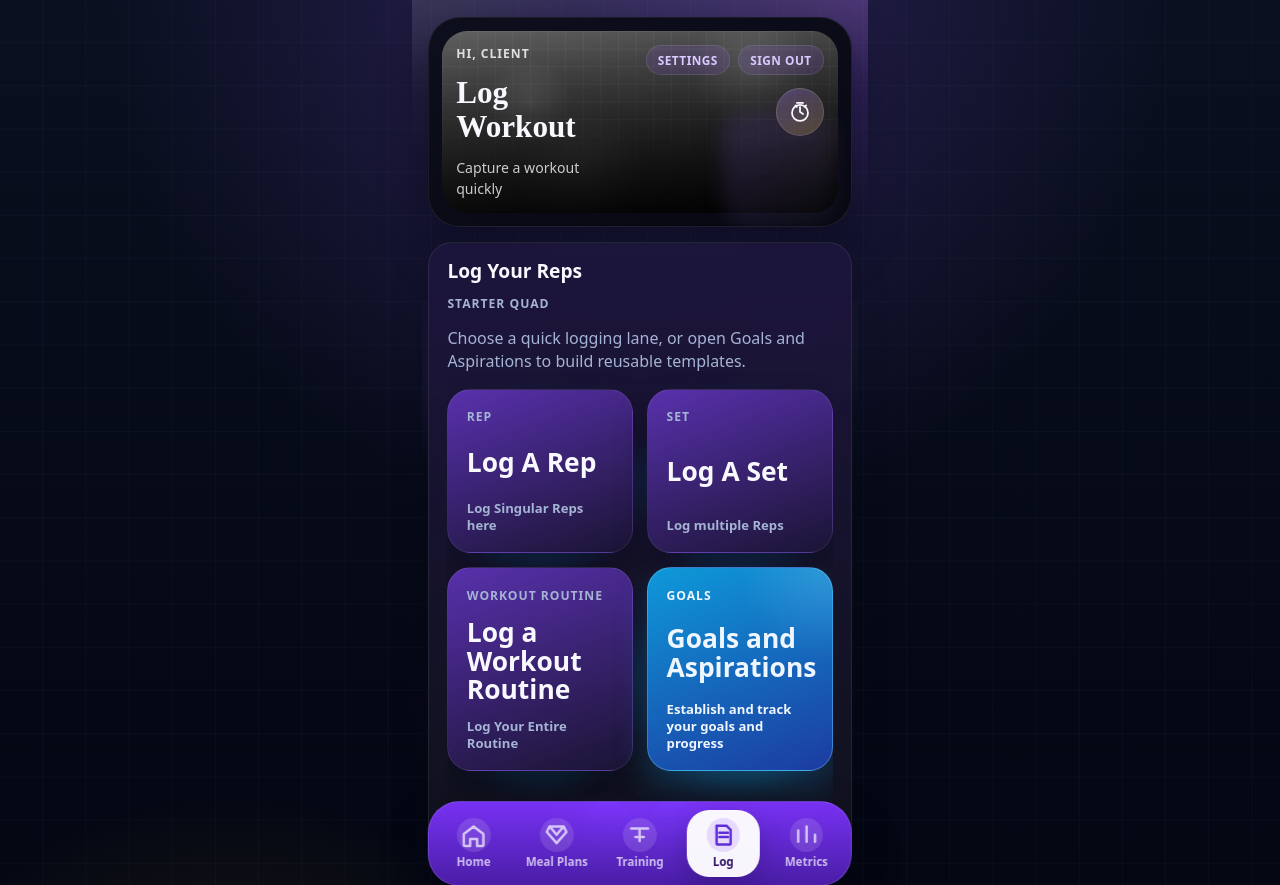
Test case: AddLogPage mobile experience › uses the top Rep selector with history autosuggest and omits hidden rep/set fields from the POST payload
Click the button named "Open Log A Rep form" at (540, 471), box [447,389,633,553]
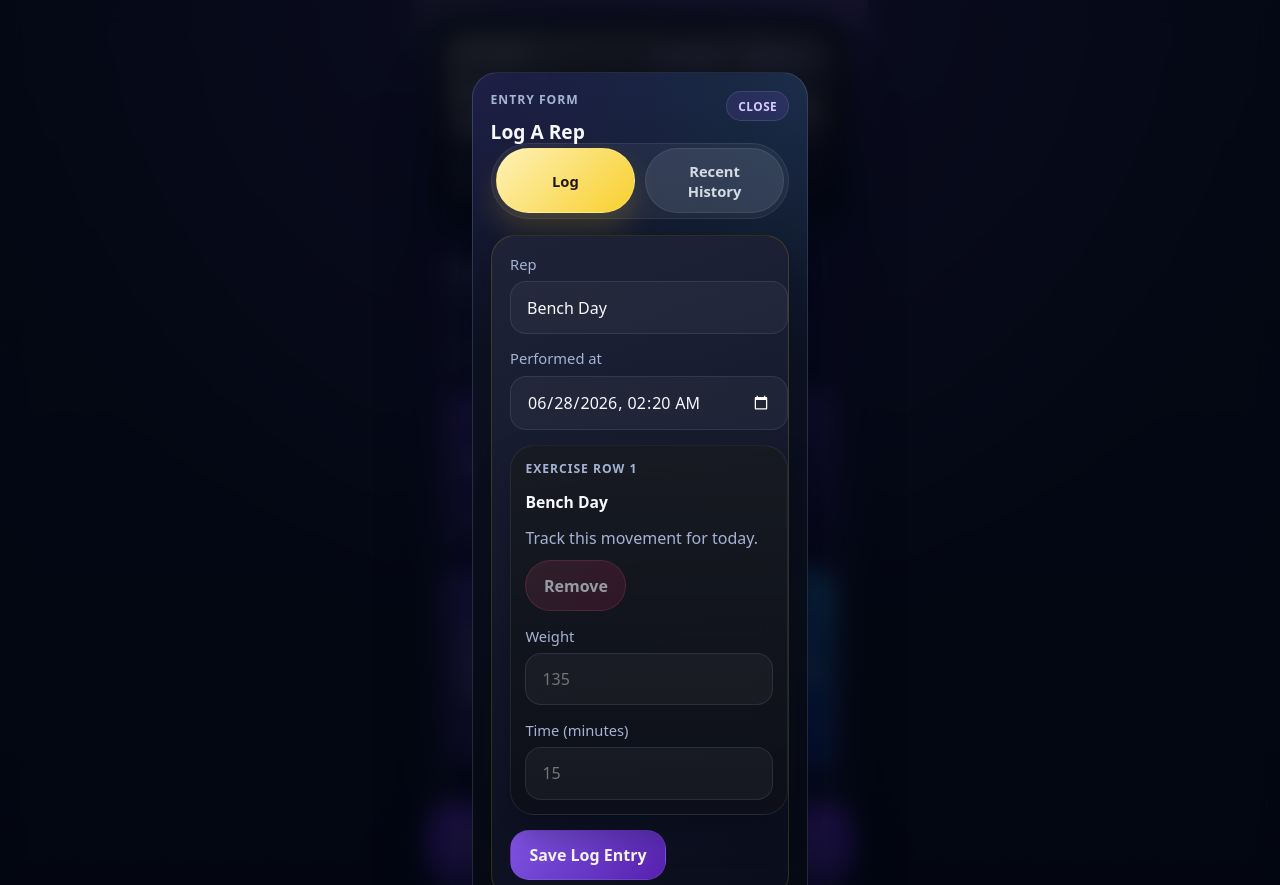
Check: the field labelled "Rep" holds "Bench Day"
Check: the number field labelled "Weight" is shown, box [525,653,773,706]
Check: the number field labelled "Time (minutes)" is shown, box [525,747,773,800]
Replace the text in the field labelled "Rep" with "Bench Press" at (649, 308), box [510,281,788,334]
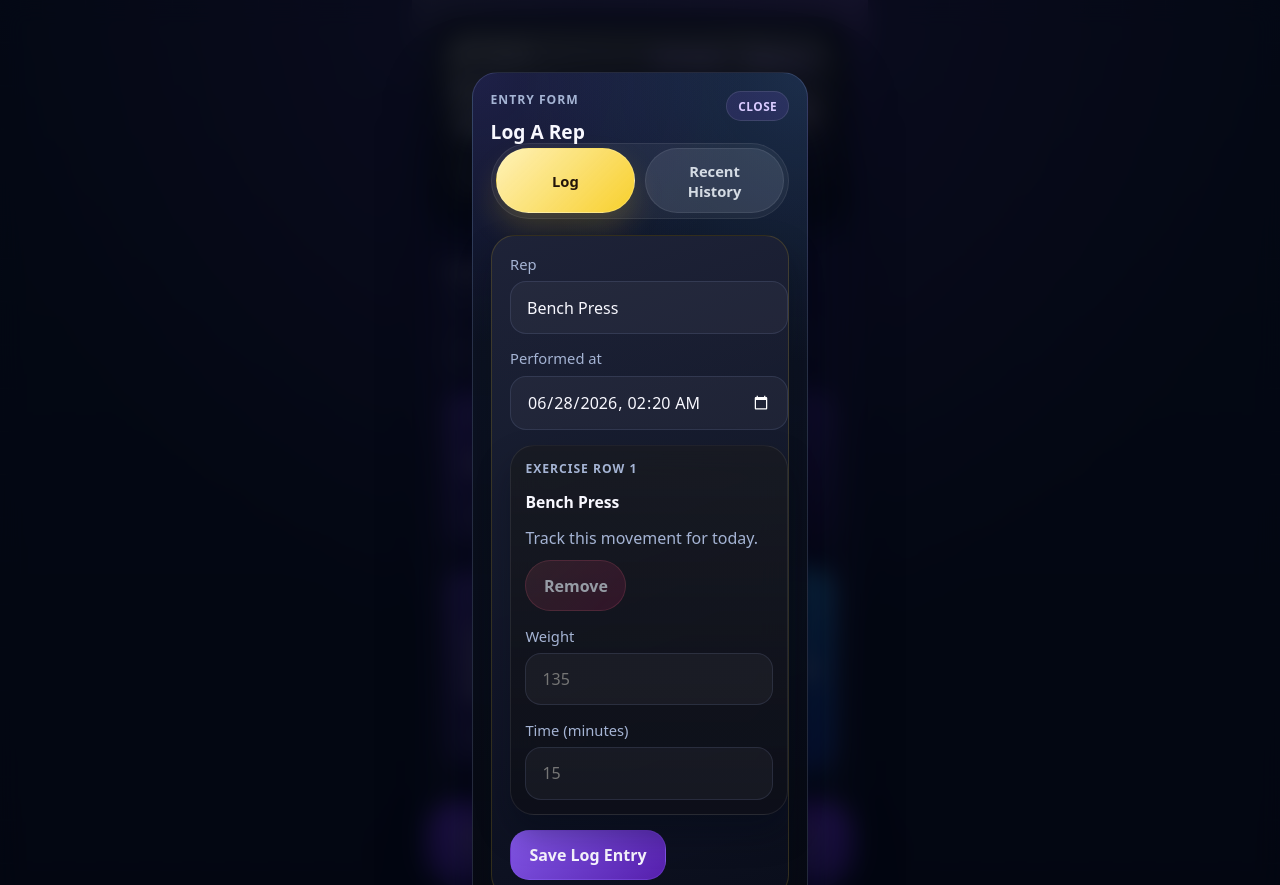
Type "135.5" into the number field labelled "Weight" at (649, 679), box [525,653,773,706]
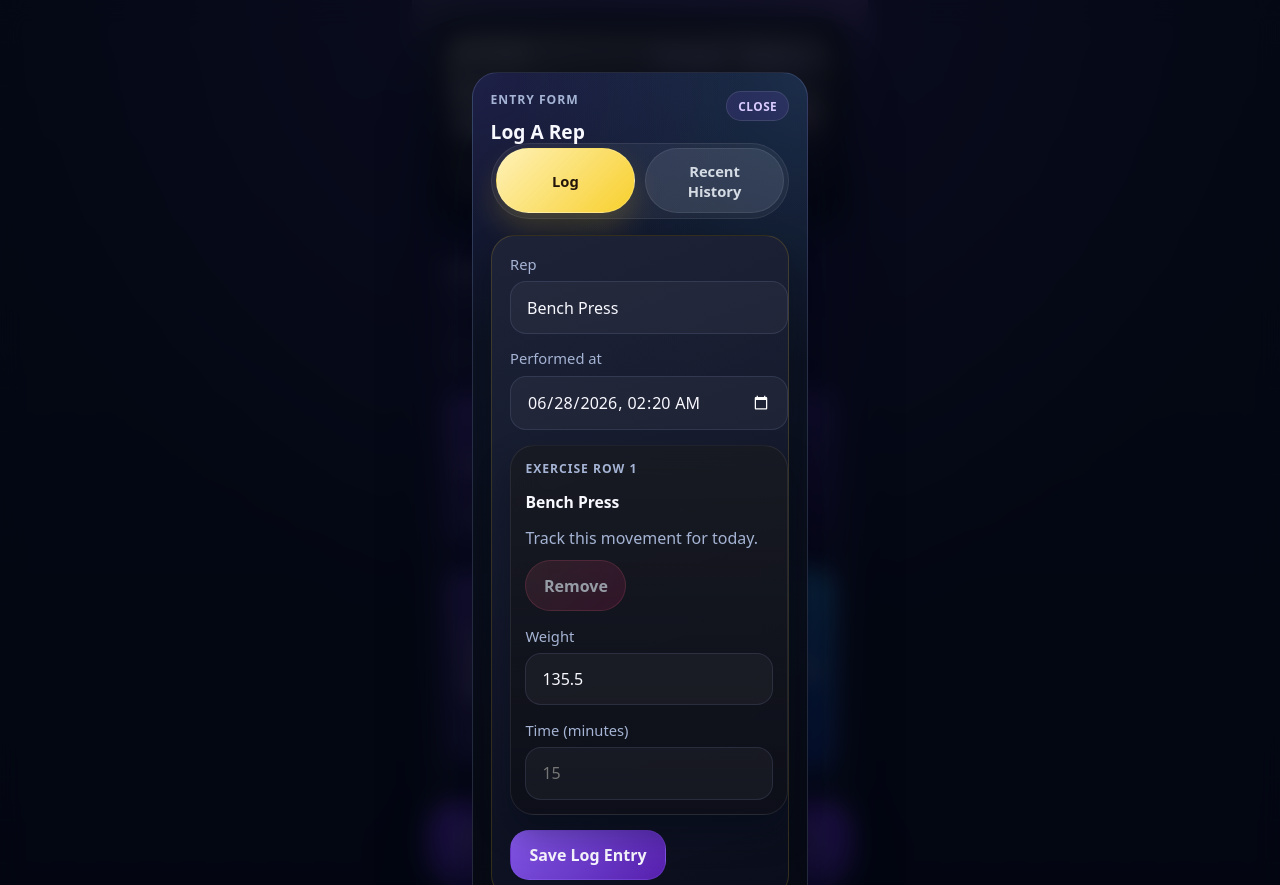
Type "1.5" into the number field labelled "Time (minutes)" at (649, 773), box [525,747,773,800]
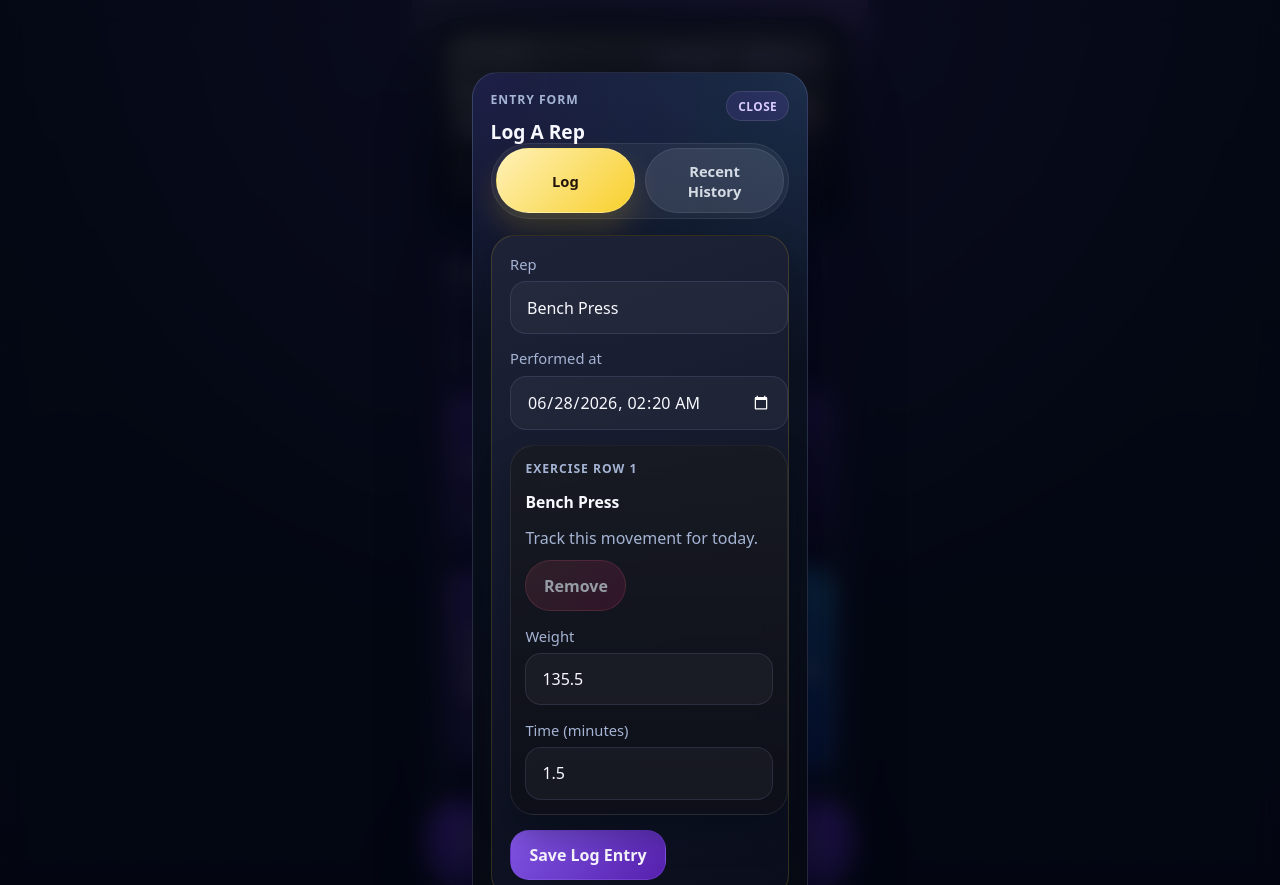
Submit the form with id "client-workout-entry-form", box [510,254,788,880]
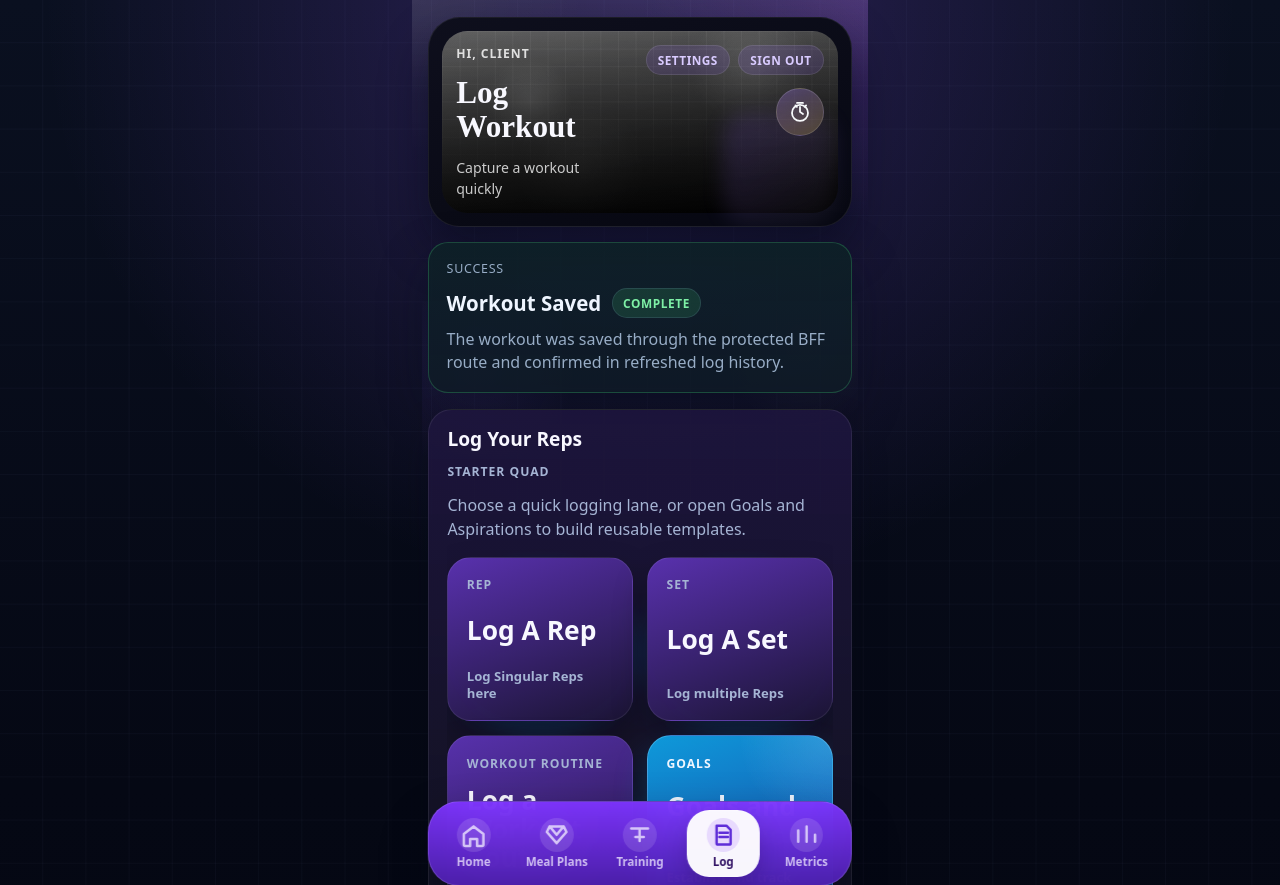
Check: the text "The workout was saved through the protected BFF route and confirmed in refreshed log history." is shown, box [447,328,825,374]
Click the button named "Open Log A Rep form" at (540, 639), box [447,557,633,721]
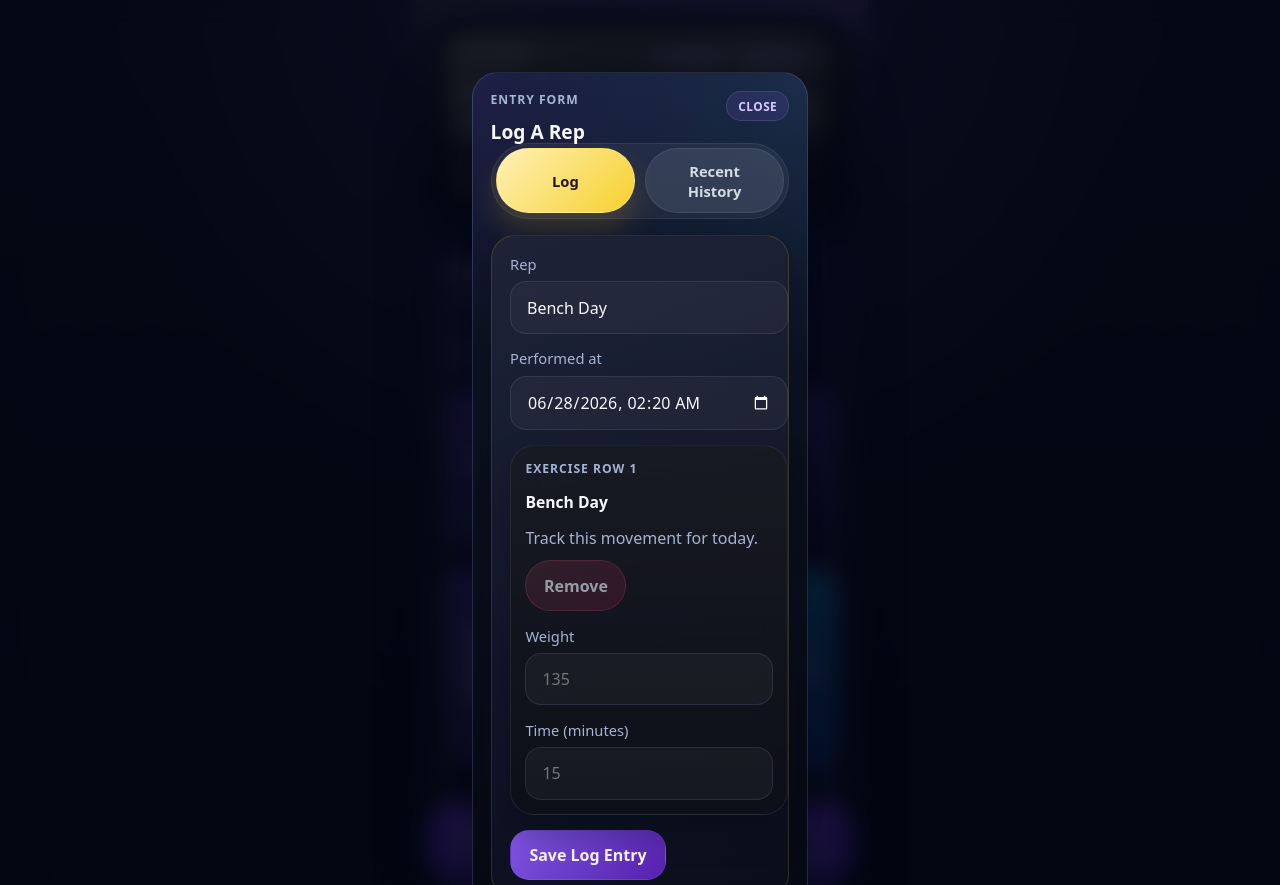
Check: the field labelled "Rep" holds "Bench Day", box [510,281,788,334]
